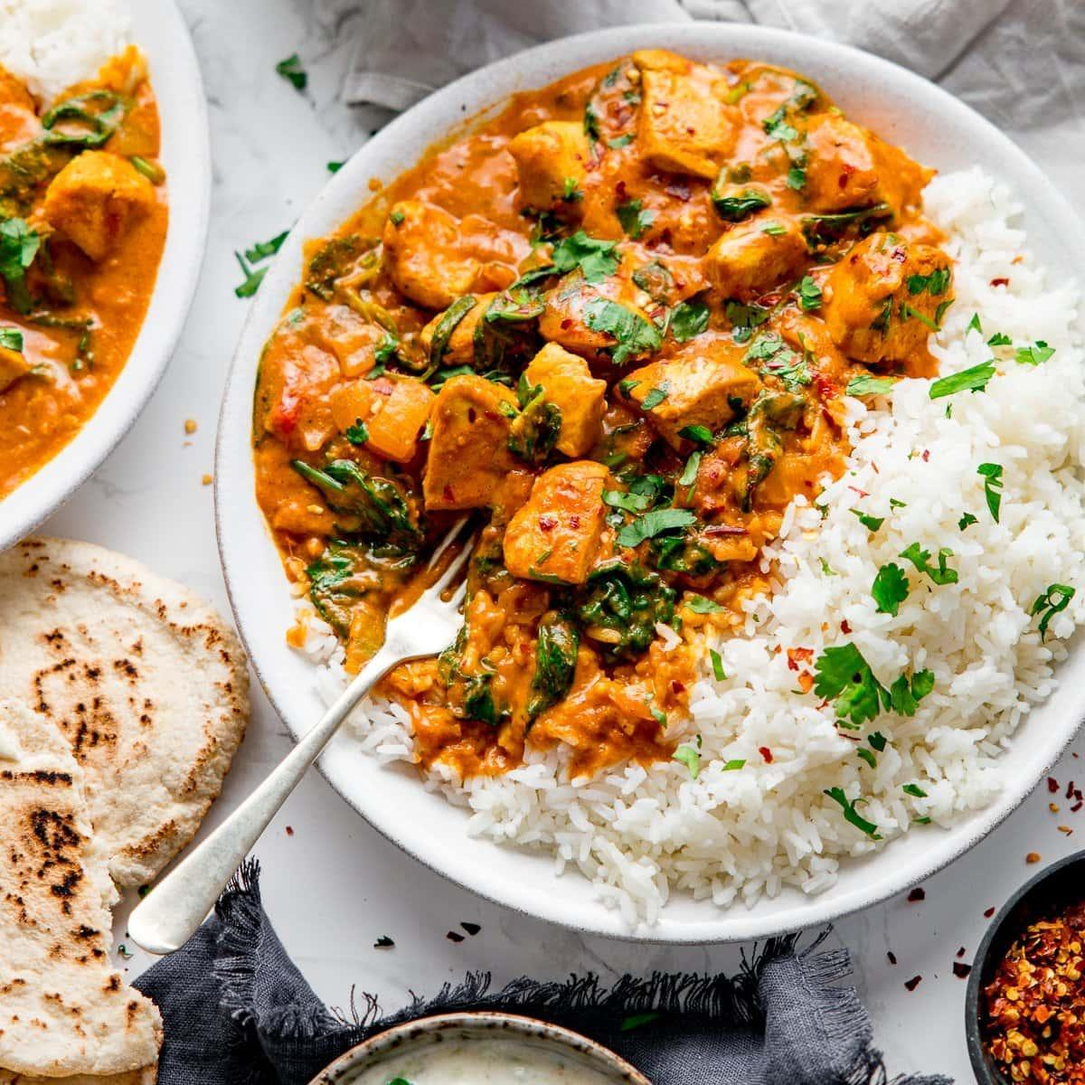chicken: (262, 62, 868, 747), (3, 50, 166, 509)
rice: (880, 173, 1085, 789), (588, 641, 928, 904)
roti: (0, 532, 244, 1085)
